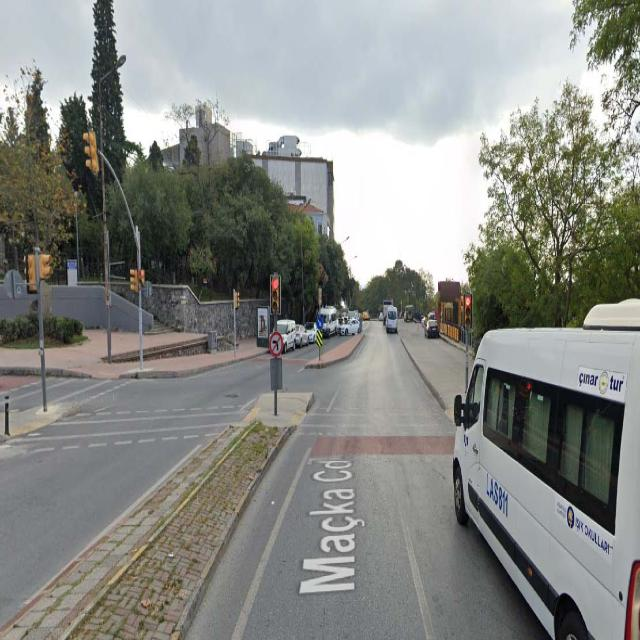kirmizi: (269, 272, 280, 316), (464, 294, 472, 331)
soladonulmez: (270, 331, 282, 357)
